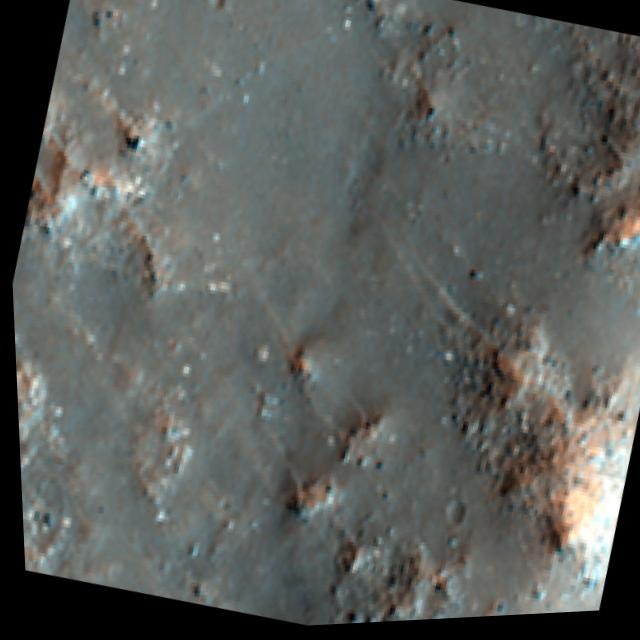Crater: (370, 15, 640, 625)
